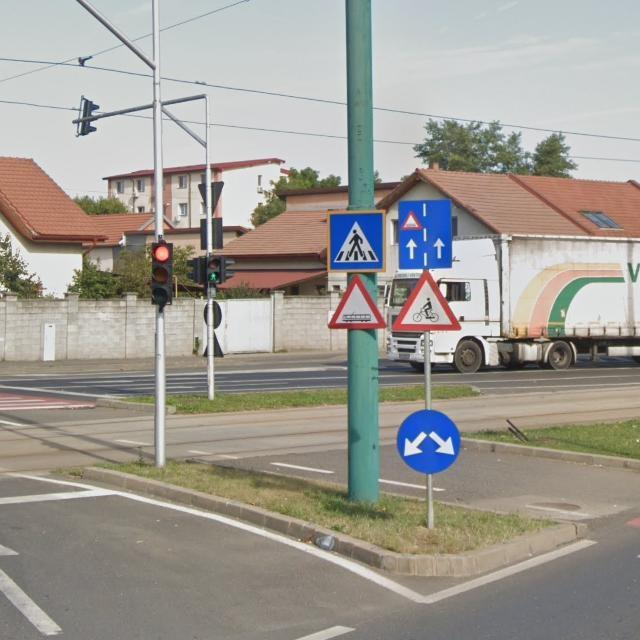warn_crosswalk: (327, 211, 387, 273)
